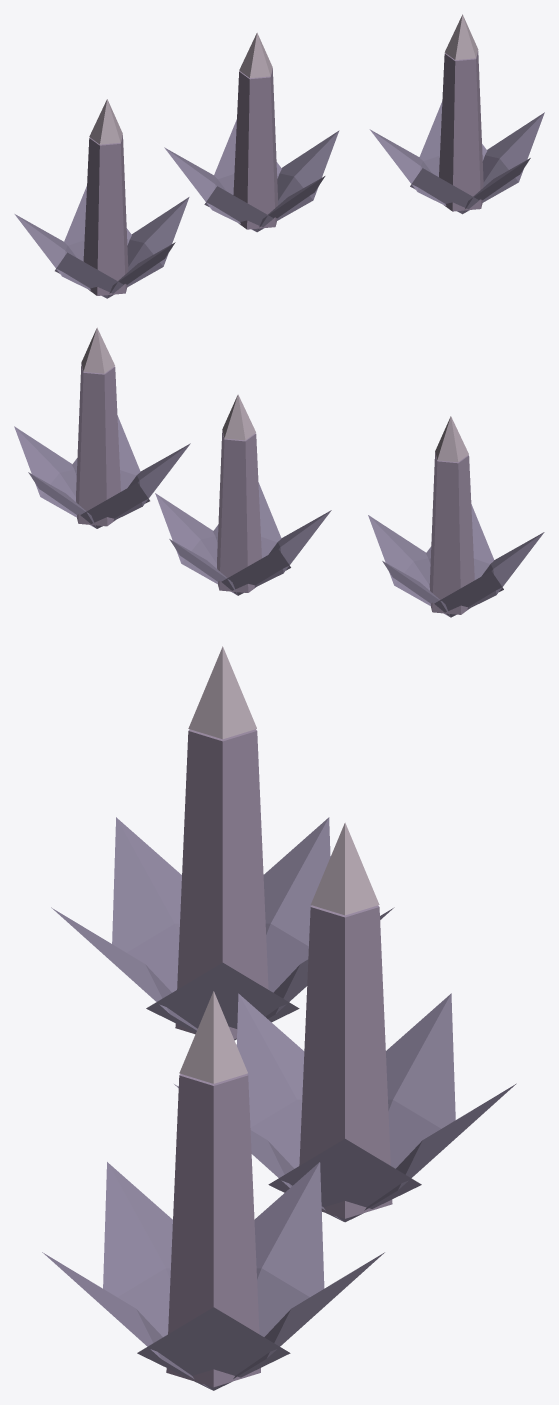
Rendered from map-exclusive-v3__dragon_16.glb.
3 renders of one model, top to bottom at view 1: azimuth 30°, elevation 25°; view 2: azimuth 150°, elevation 25°; view 3: azimuth 270°, elevation 25°, orthographic. The views are drawn at different scales.
Visible parts, largest first — view 1: dragon_16; view 2: dragon_16; view 3: dragon_16.
Boxes of the visible parts, bbox=[...] form: dragon_16: bbox=[14, 14, 544, 298]; dragon_16: bbox=[14, 327, 544, 617]; dragon_16: bbox=[42, 646, 516, 1390].
Bounding box in the file's own units: 2.56 × 0.975 × 1.05.
